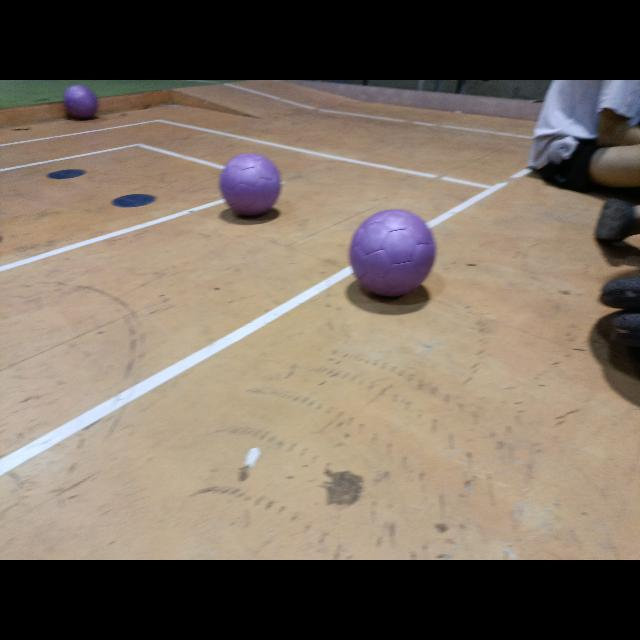P: (350, 210, 434, 296), (220, 152, 280, 215), (64, 85, 98, 119)
